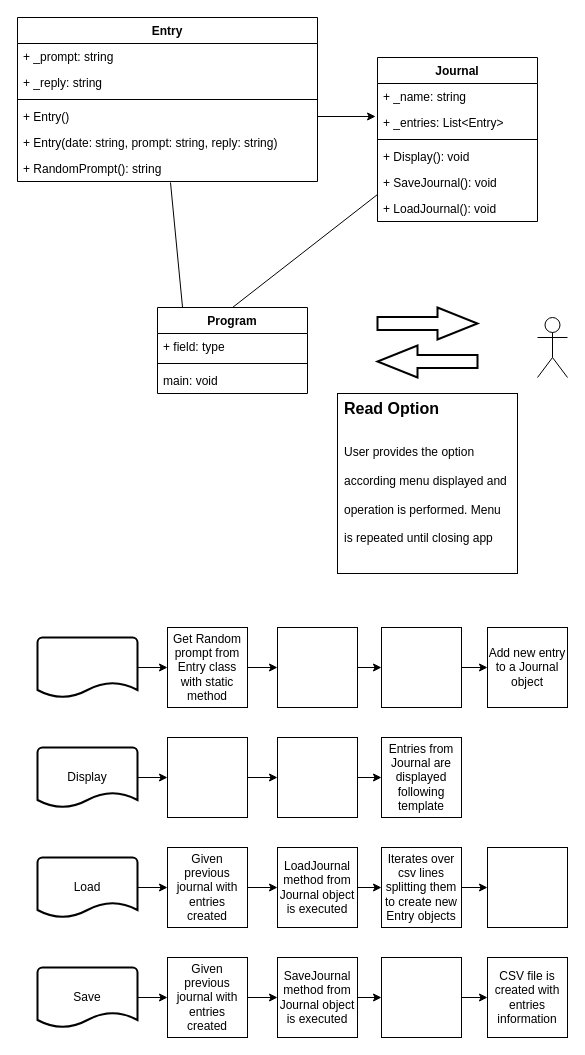
This 585x1055 diagram has some shape labels left out. The shapes that lost their labels are listed below. From the top down, each one's centre as x and y in pixels, then its label:
(x=552, y=347): Actor
(x=87, y=667): Write entry at menu
(x=317, y=667): Ask User to write a reply to prompt
(x=421, y=667): Create a new Entry object with prompt and entry obtained
(x=207, y=777): Given previous entries stored at current execution
(x=317, y=777): Display method from Journal object is executed
(x=527, y=887): New Entry objects are displayed at console
(x=421, y=997): Iterates over Journal.Entries objects and format for CSV
